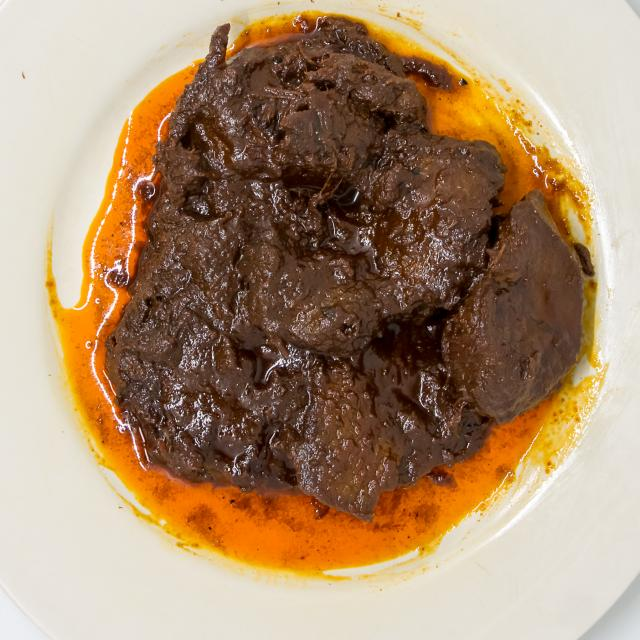Rendang: (100, 12, 599, 512)
